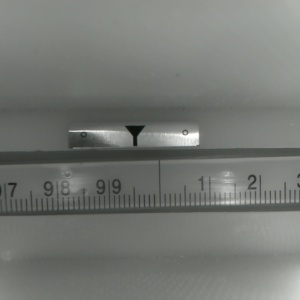1: (197, 177, 203, 191)
2: (246, 175, 256, 190)
3: (295, 172, 300, 189)
7: (6, 182, 17, 197)
8: (59, 180, 69, 196)
9: (95, 179, 106, 194), (42, 181, 53, 196), (111, 178, 121, 194)
finger: (123, 126, 145, 146)
